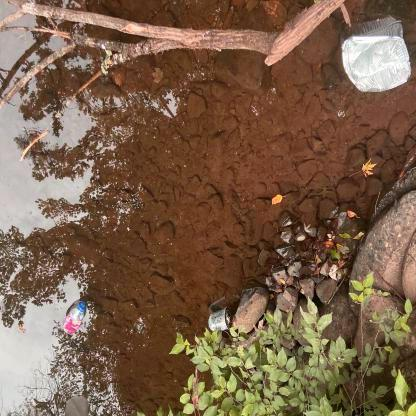Metal: (336, 13, 415, 102)
Plastic: (59, 298, 91, 339), (204, 302, 236, 336)
